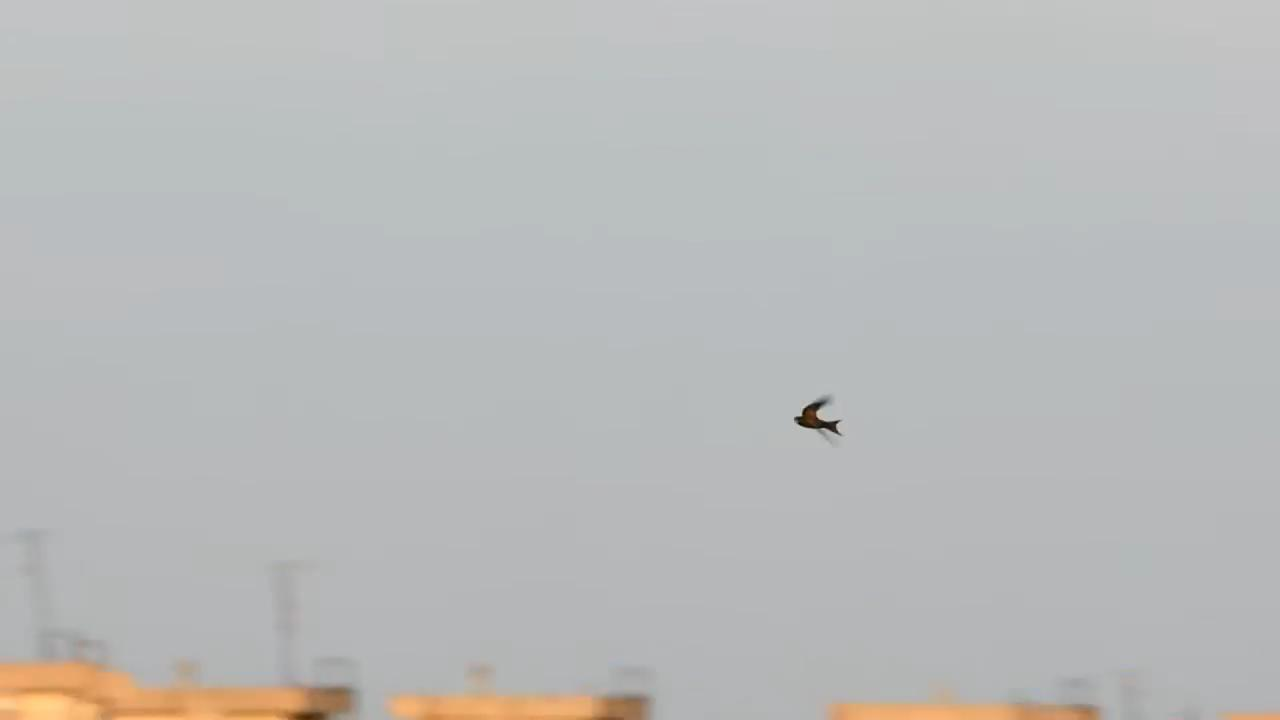Bird: (778, 380, 855, 453)
